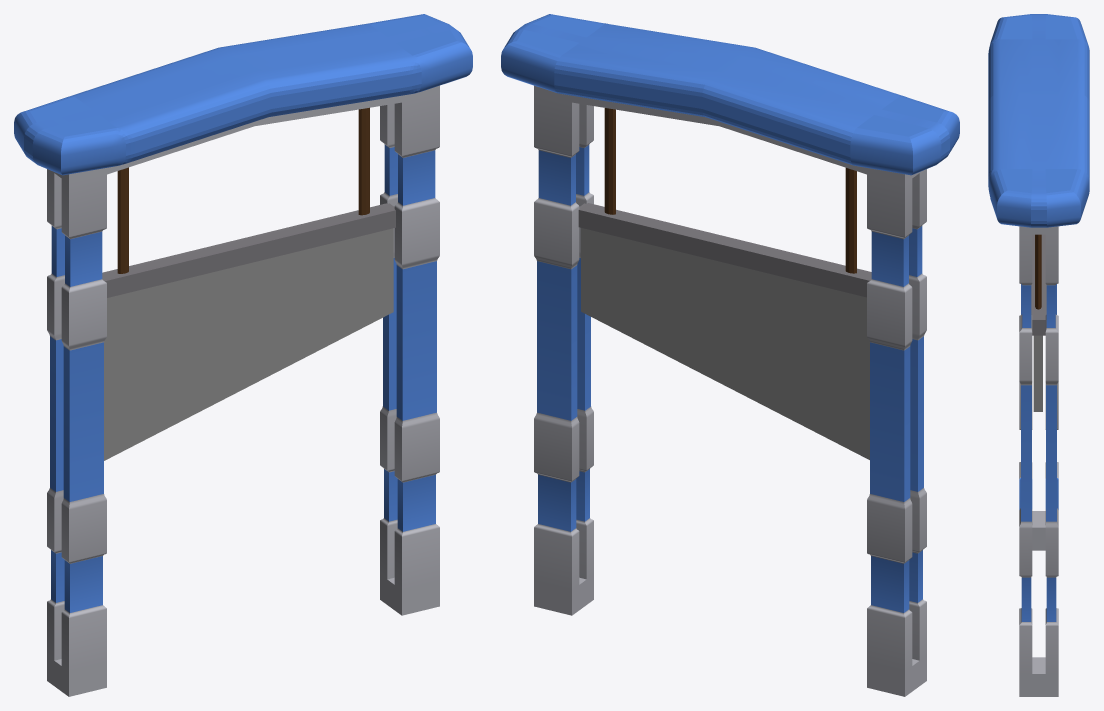
Rendered from giyotin.fbx.
3 renders of one model, left to right at view 1: azimuth 30°, elevation 25°; view 2: azimuth 150°, elevation 25°; view 3: azimuth 270°, elevation 25°, orthographic. The views are drawn at different scales.
Parts seen in each view (by area): view 1: Cube.001, Cube.002, Cylinder; view 2: Cube.001, Cube.002, Cylinder; view 3: Cube.001, Cube.002, Cylinder.
Part boxes in pixels (bbox=[...]): Cube.001: bbox=[14, 14, 472, 696]; Cube.002: bbox=[102, 203, 395, 460]; Cylinder: bbox=[117, 107, 369, 273]; Cube.001: bbox=[501, 14, 959, 696]; Cube.002: bbox=[578, 203, 871, 459]; Cylinder: bbox=[604, 108, 856, 273]; Cube.001: bbox=[988, 14, 1089, 696]; Cube.002: bbox=[1031, 234, 1046, 411]; Cylinder: bbox=[1035, 234, 1041, 309].
Bounding box in the file's own units: 116 × 149 × 26.19.
